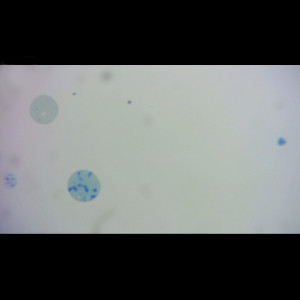aggregate reticulocyte: (65, 168, 102, 202)
punctate reticulocyte: (29, 94, 60, 126)
